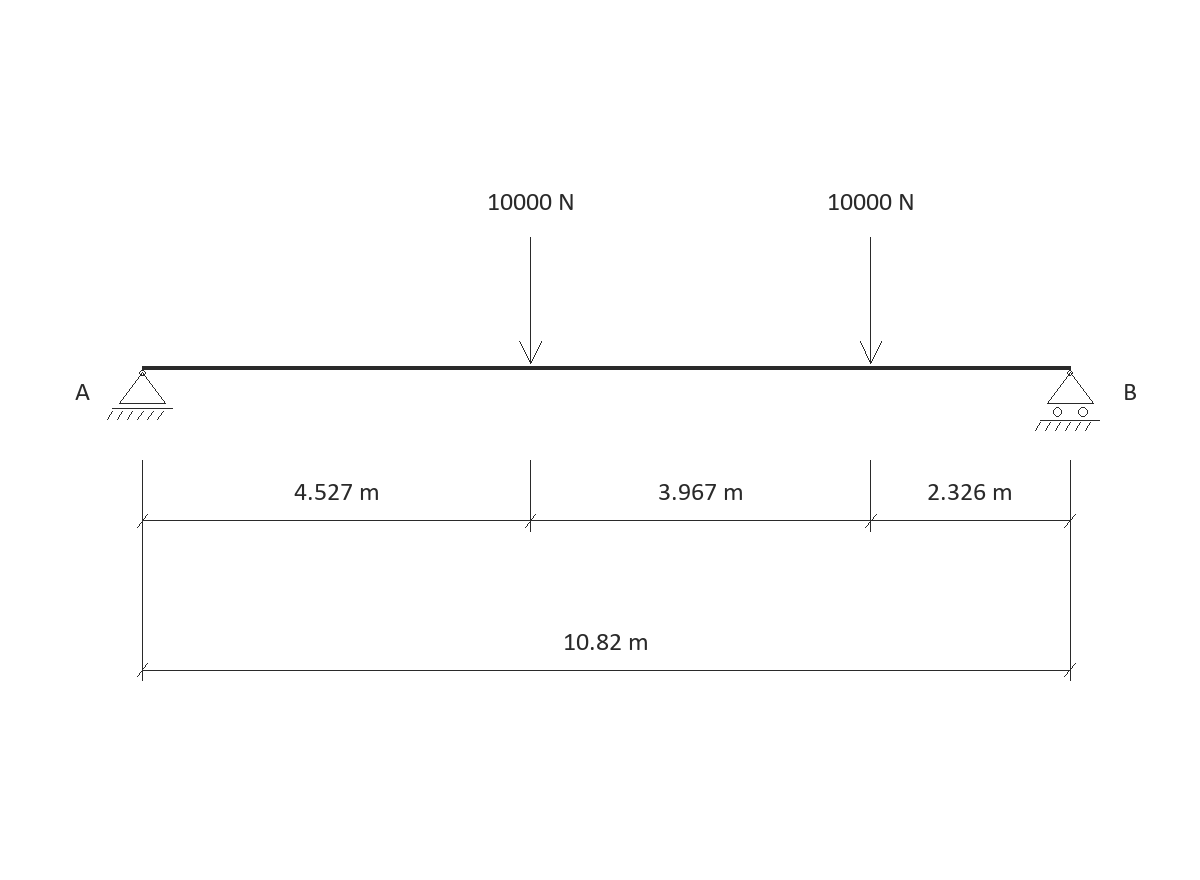pin_support: (107, 370, 173, 420)
point_load: (519, 237, 542, 364), (860, 237, 882, 364)
roller_support: (1035, 370, 1100, 431)
